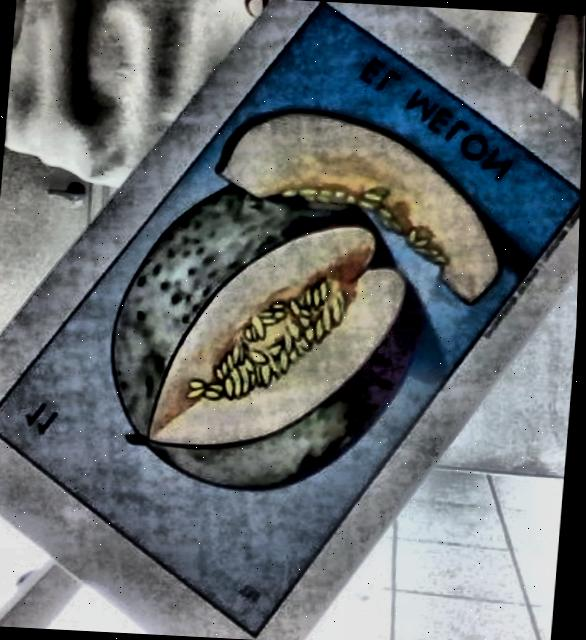El Melon: (0, 5, 581, 632)
